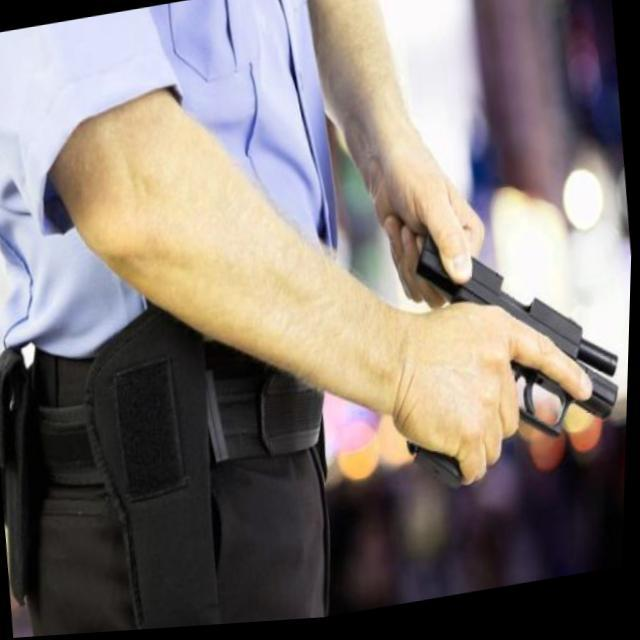weapon: (384, 203, 634, 504)
